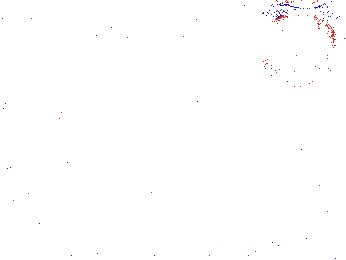moon jellyfish: (1, 5, 103, 122), (256, 8, 346, 86), (277, 66, 346, 166), (74, 21, 146, 98)
